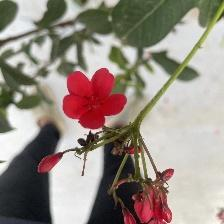jatropha: (64, 68, 129, 131)
